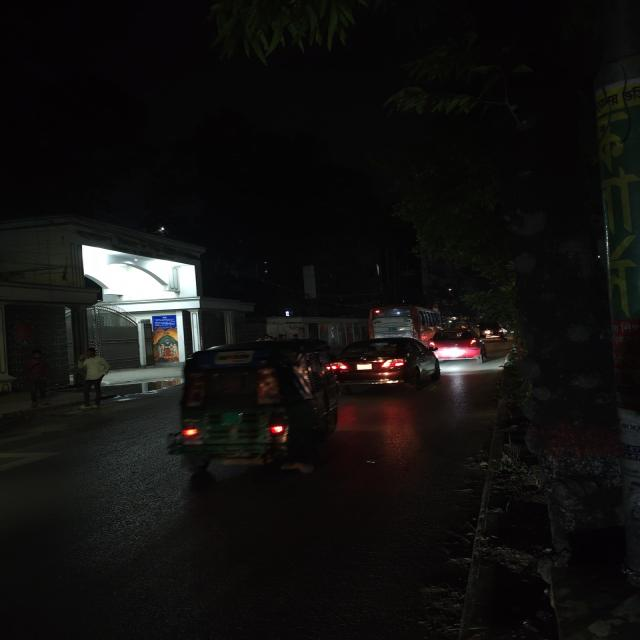bus: (367, 304, 424, 340)
car: (331, 337, 442, 393), (426, 326, 490, 365), (476, 319, 508, 342)
cng: (168, 341, 340, 477)
pedestrian: (71, 345, 114, 412), (20, 347, 53, 408)
